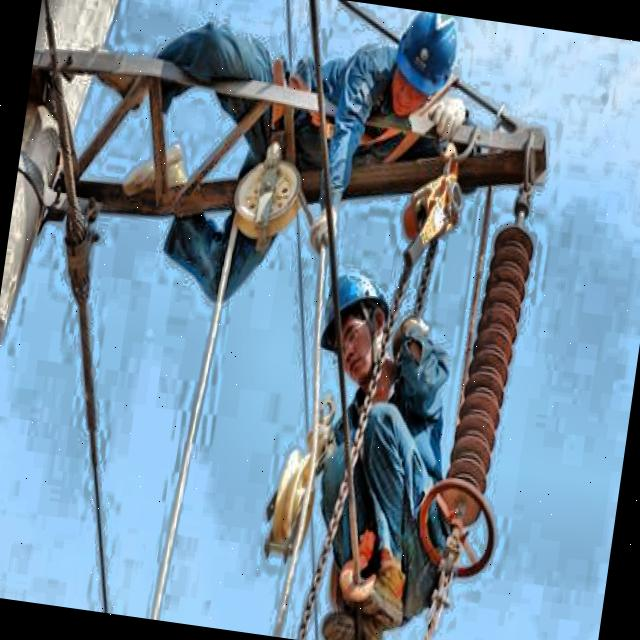helmet: (314, 255, 399, 392), (392, 10, 458, 110)
